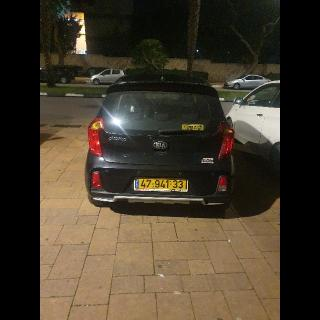LicensePlate: (139, 180, 186, 189)
